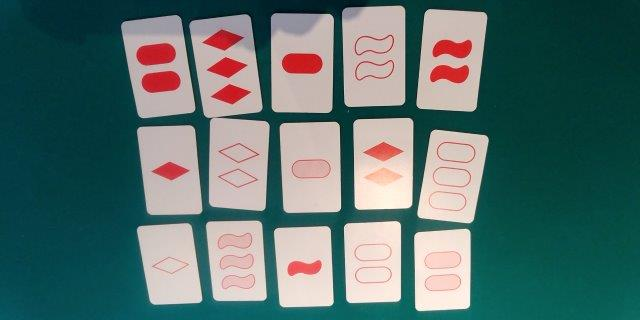1ED: (148, 228, 191, 298)
1FD: (147, 129, 192, 209)
1FP: (275, 14, 328, 109)
1FW: (280, 230, 327, 304)
1HP: (284, 125, 337, 210)
2ED: (212, 124, 264, 205)
2EP: (349, 225, 398, 298)
2EW: (346, 7, 400, 103)
2FD: (357, 121, 407, 207)
2FP: (135, 21, 180, 108)
2FW: (426, 11, 476, 105)
2HP: (418, 233, 466, 305)
3EP: (428, 139, 475, 214)
3FD: (202, 22, 251, 108)
3HW: (213, 224, 260, 298)
